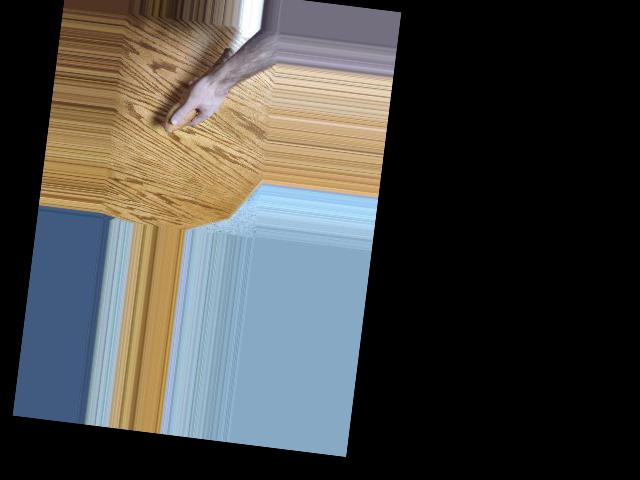sweet_potato: (163, 38, 236, 140)
